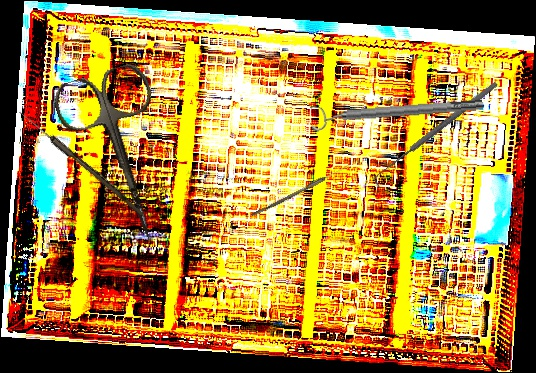Fixation Ring: (310, 92, 484, 132)
Hook Surgical: (368, 78, 504, 189)
Iris Scissors: (49, 59, 194, 256)
Surgical Spoon: (16, 109, 147, 217), (251, 162, 351, 219)
